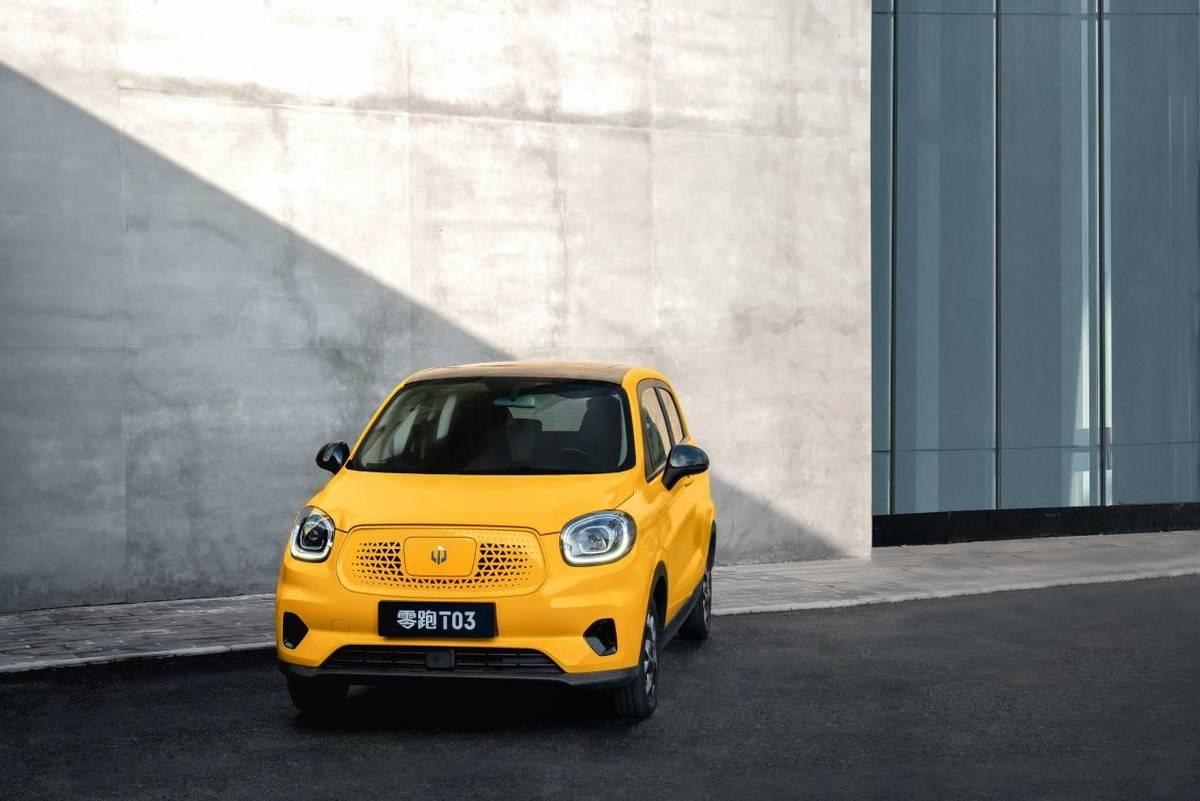LEAPMOTOR: (429, 542, 449, 565)
